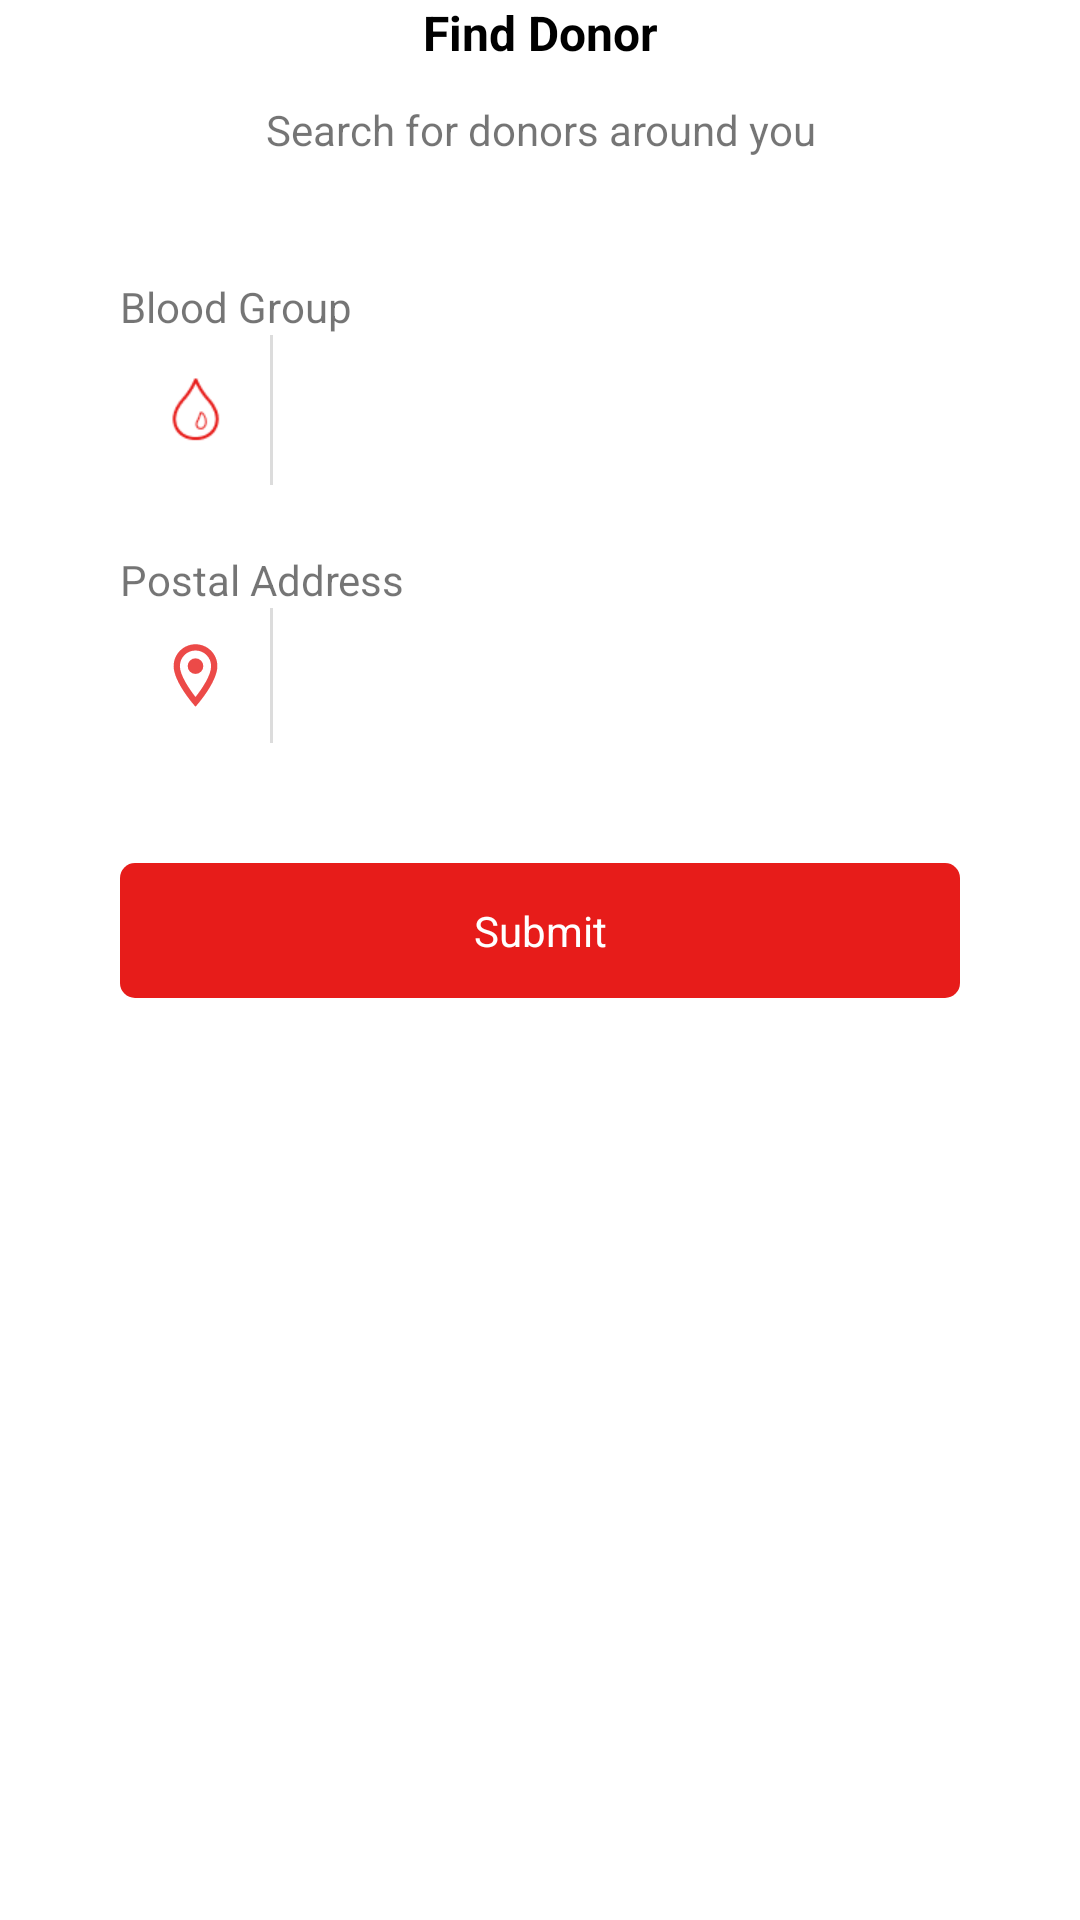

Where to tap for icons on this 1080*1920 app screen, as (x,y):
donation: (196,409)
location: (195,675)
